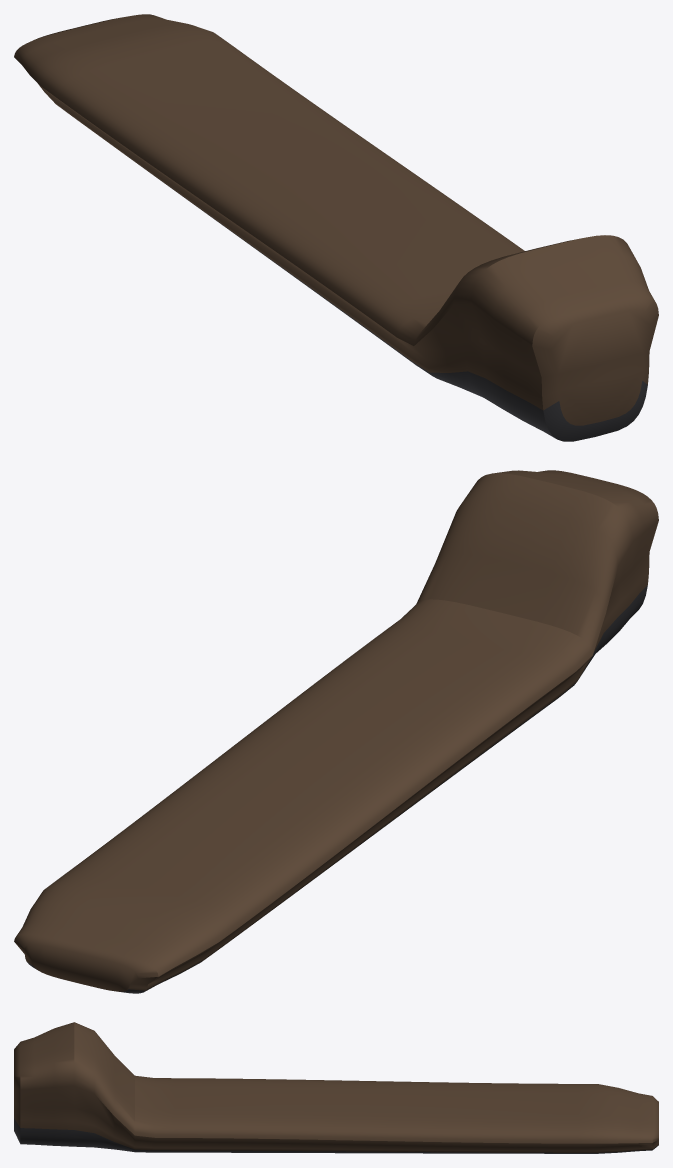
The model's file is flat_track.glb.
The picture shows the model from 3 angles, top to bottom: view 1: azimuth 30°, elevation 25°; view 2: azimuth 150°, elevation 25°; view 3: azimuth 270°, elevation 25°; orthographic projection. The views are drawn at different scales.
Visible parts, largest first — view 1: lod0; view 2: lod0; view 3: lod0.
Boxes of the visible parts, x1,y1,x2,y2 form: lod0: (14,14,658,441); lod0: (14,470,658,993); lod0: (14,1022,658,1153).
Size of what is drawn, in the model's own units: 0.1996 by 0.1697 by 1.
